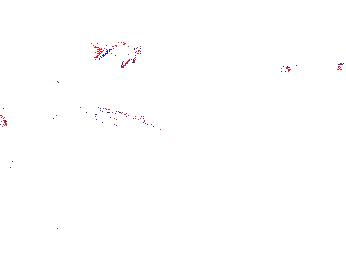X-ray fish: (3, 145, 41, 170)
glassfish: (1, 89, 79, 143), (79, 102, 168, 142)
red belly glassfish: (319, 58, 346, 72), (279, 58, 301, 75)
redtail glassfish: (3, 67, 60, 92), (91, 42, 145, 62)
